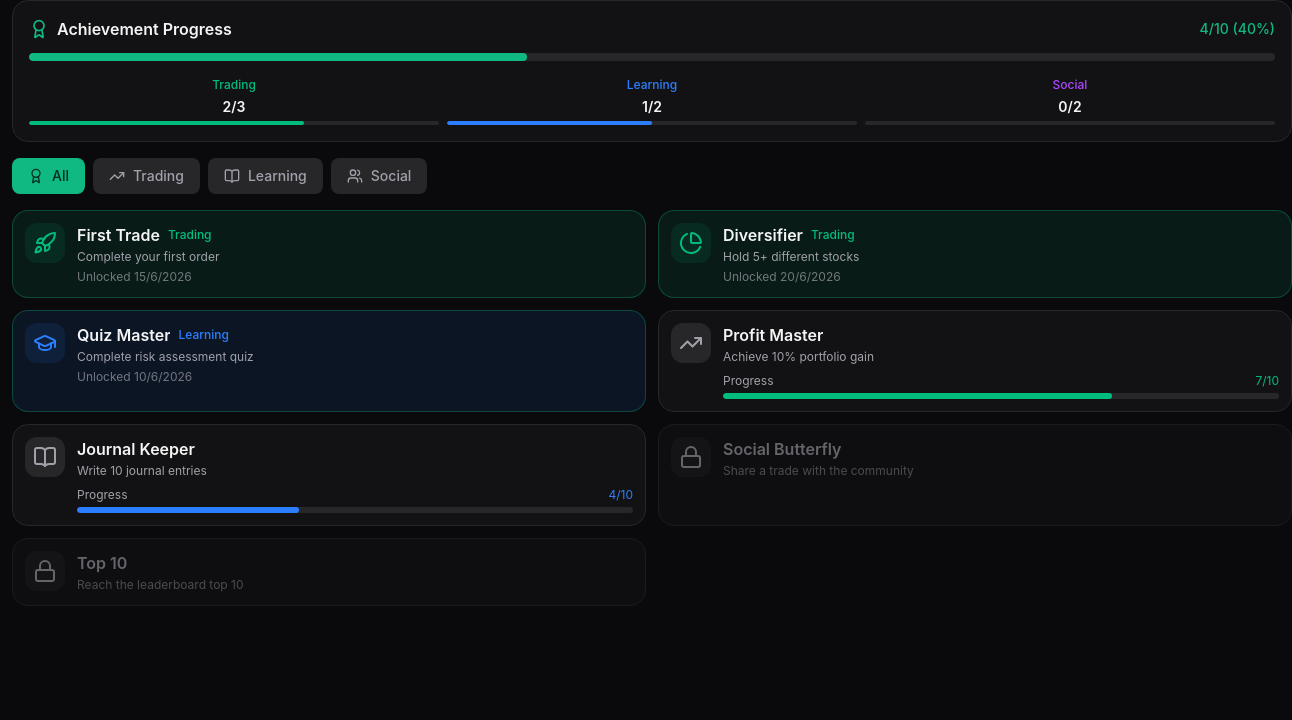
Test case: AchievementsList › filters achievements by Trading category
This screenshot has width=1292, height=720.
Click the button "Trading": (146, 176) [93,158,200,194]
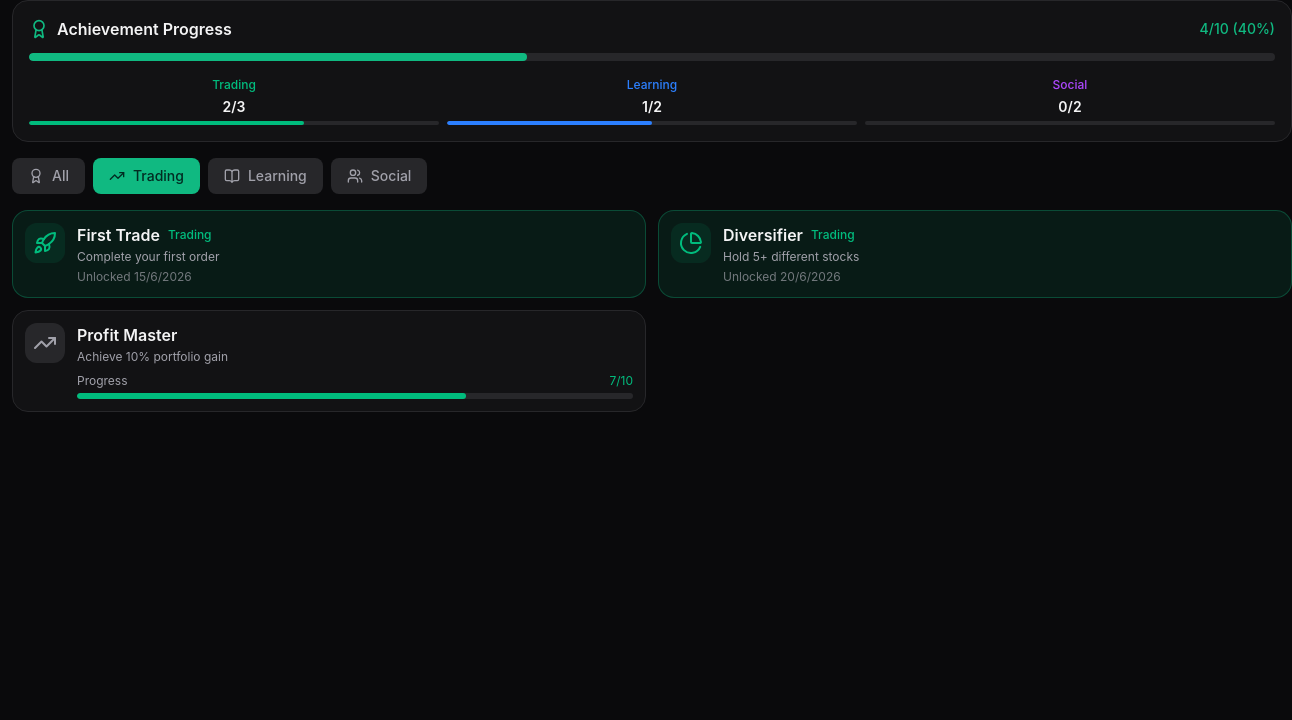
Expected: the heading "Journal Keeper" is gone
Expected: the heading "Quiz Master" is gone
Expected: the heading "Social Butterfly" is gone
